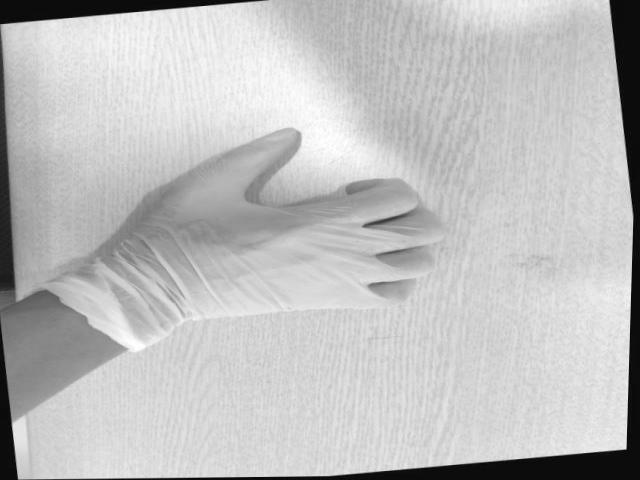gloved: (137, 128, 440, 308)
